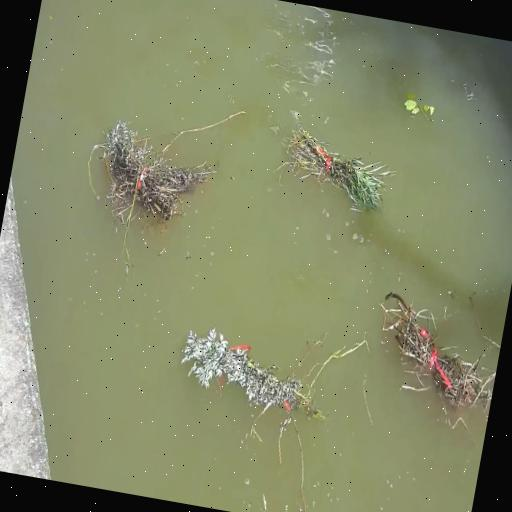twig: (363, 272, 509, 420), (83, 104, 217, 250), (170, 325, 326, 430), (279, 115, 403, 217), (398, 84, 445, 130)
